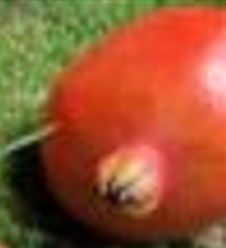pomegranate_A: (36, 5, 226, 242)
